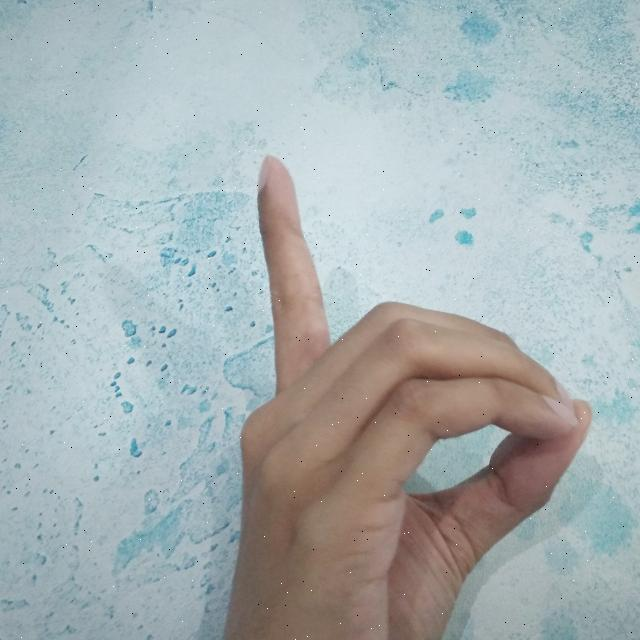D: (227, 151, 589, 640)
